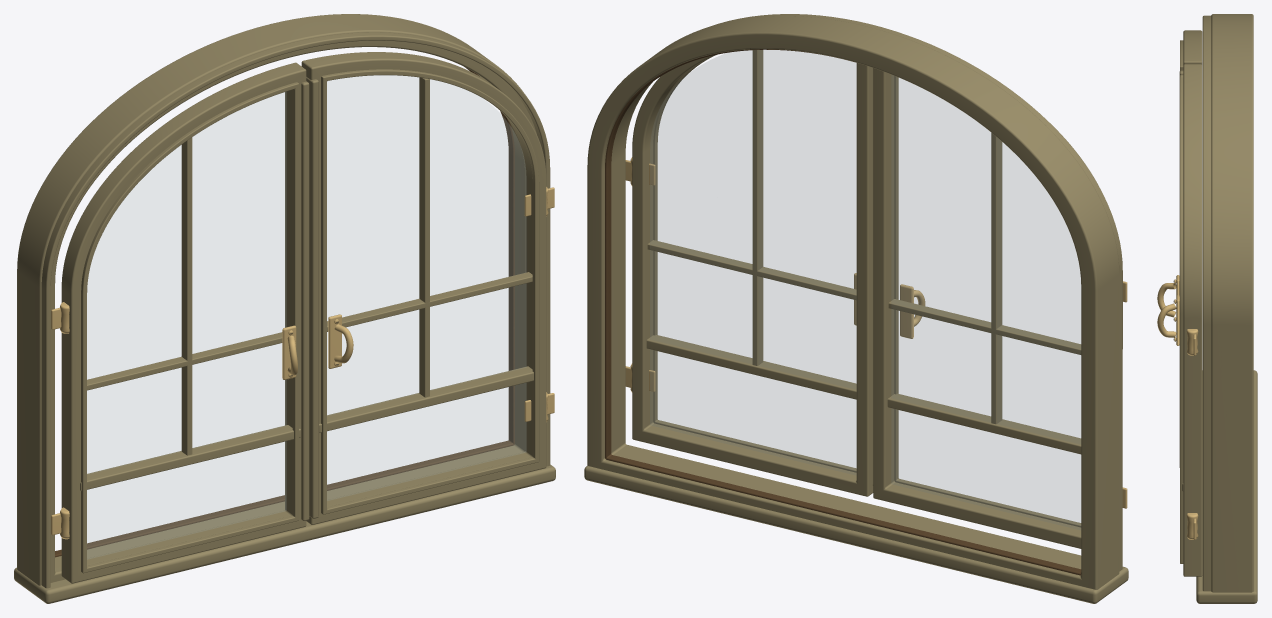
Rendered from front-room-01.glb.
3 renders of one model, left to right at view 1: azimuth 30°, elevation 25°; view 2: azimuth 150°, elevation 25°; view 3: azimuth 270°, elevation 25°, orthographic. The views are drawn at different scales.
Parts seen in each view (by area): view 1: hinge_left__Joinery_clear_glass, hinge_right__Joinery_clear_glass, frame__Joinery_sunroom_bronze, hinge_left__Joinery_sunroom_bronze, hinge_right__Joinery_sunroom_bronze, frame__Joinery_recessed_walnut, hinge_left__Joinery_brass_fittings, hinge_right__Joinery_brass_fittings, frame__Joinery_brass_fittings; view 2: hinge_right__Joinery_clear_glass, frame__Joinery_sunroom_bronze, hinge_left__Joinery_clear_glass, hinge_right__Joinery_sunroom_bronze, hinge_left__Joinery_sunroom_bronze, frame__Joinery_recessed_walnut, hinge_right__Joinery_brass_fittings; view 3: frame__Joinery_sunroom_bronze, hinge_right__Joinery_sunroom_bronze, hinge_left__Joinery_sunroom_bronze, hinge_right__Joinery_brass_fittings, hinge_left__Joinery_brass_fittings, frame__Joinery_brass_fittings.
Part boxes in pixels (x1,y1,x2,y2): hinge_left__Joinery_clear_glass: [87, 92, 286, 559]; hinge_right__Joinery_clear_glass: [327, 75, 526, 500]; frame__Joinery_sunroom_bronze: [14, 14, 555, 603]; hinge_left__Joinery_sunroom_bronze: [61, 62, 318, 583]; hinge_right__Joinery_sunroom_bronze: [301, 52, 546, 524]; frame__Joinery_recessed_walnut: [55, 67, 514, 557]; hinge_left__Joinery_brass_fittings: [60, 302, 353, 539]; hinge_right__Joinery_brass_fittings: [282, 187, 548, 421]; frame__Joinery_brass_fittings: [51, 187, 554, 535]; hinge_right__Joinery_clear_glass: [650, 50, 856, 474]; frame__Joinery_sunroom_bronze: [584, 14, 1128, 603]; hinge_left__Joinery_clear_glass: [891, 75, 1080, 529]; hinge_right__Joinery_sunroom_bronze: [632, 50, 873, 496]; hinge_left__Joinery_sunroom_bronze: [872, 68, 1100, 548]; frame__Joinery_recessed_walnut: [605, 49, 1081, 575]; hinge_right__Joinery_brass_fittings: [630, 157, 925, 392]; frame__Joinery_sunroom_bronze: [1196, 14, 1257, 603]; hinge_right__Joinery_sunroom_bronze: [1179, 64, 1202, 576]; hinge_left__Joinery_sunroom_bronze: [1179, 30, 1202, 467]; hinge_right__Joinery_brass_fittings: [1157, 275, 1198, 539]; hinge_left__Joinery_brass_fittings: [1157, 295, 1179, 345]; frame__Joinery_brass_fittings: [1193, 334, 1196, 539].
Bounding box in the file's own units: 2.68 × 2.49 × 0.5078.
Materials: 5 (1 with a texture image).
